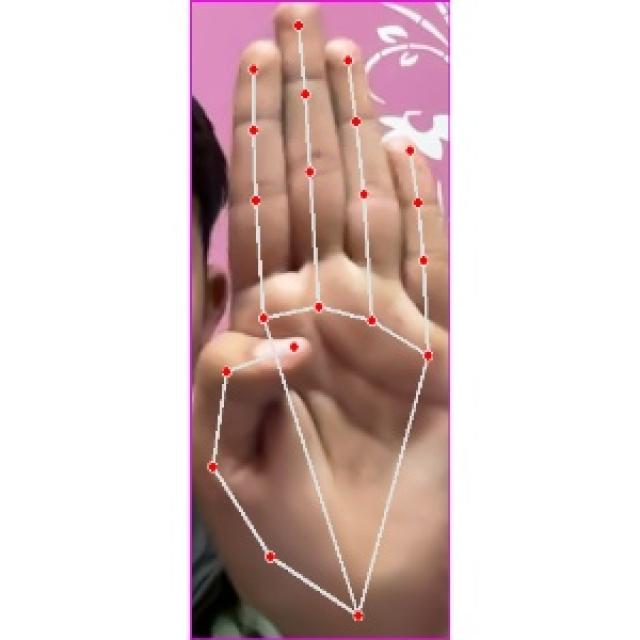B: (190, 0, 446, 640)
